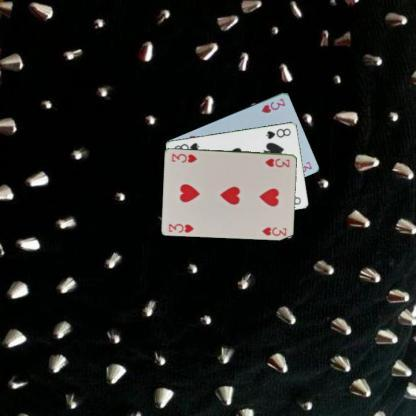3h: (259, 96, 286, 114), (166, 220, 196, 235), (263, 155, 291, 169)
8s: (263, 125, 292, 140)
